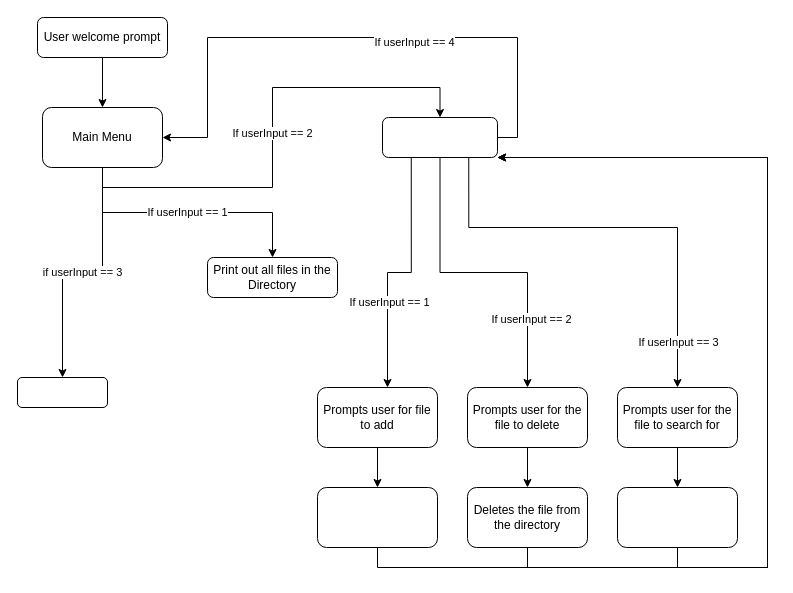
This 793x593 diagram has some shape labels left out. Here are the shapes that lost their labels. From the top down, the centre of each, then its label:
point (440, 137): Print out options menu
point (62, 392): Exit Program
point (377, 517): Adds the user specified file to the directory
point (677, 517): Tells the user if the file was found/not found in the directory
